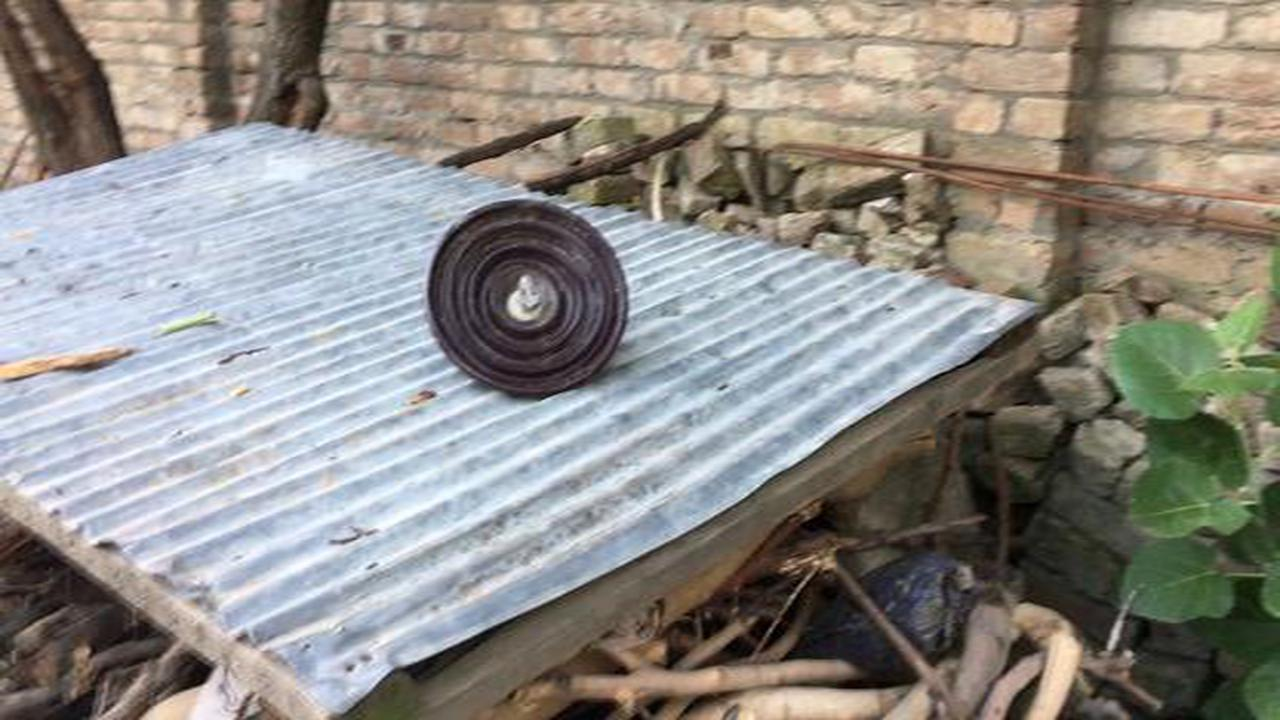insulator_disc: (419, 195, 637, 403)
